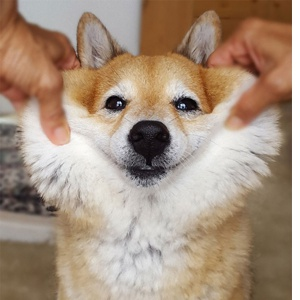dog: (18, 2, 272, 235)
